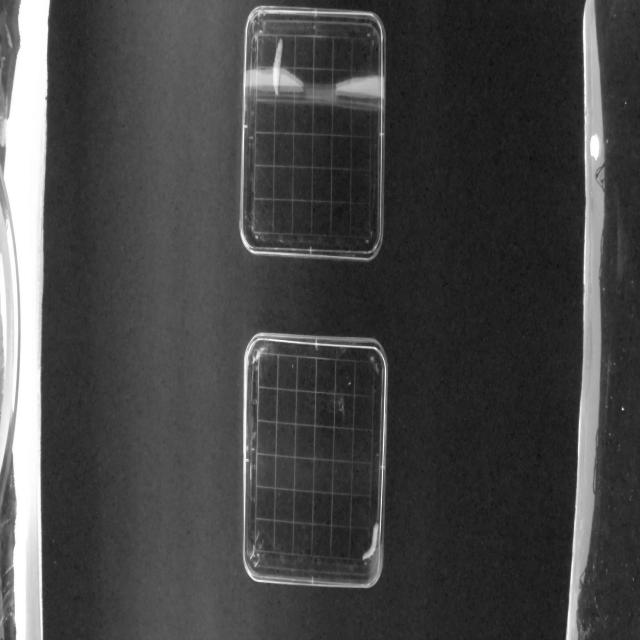larva: (270, 32, 288, 98), (362, 518, 379, 564)
